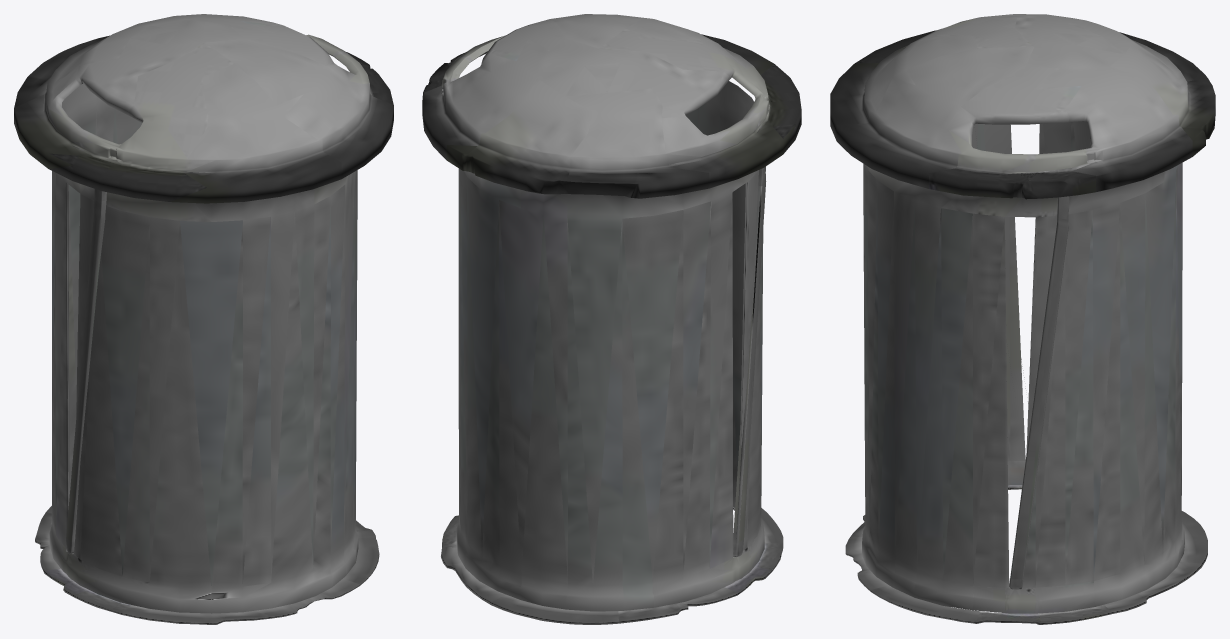
The model's file is subway-bin.glb.
3 views of the same model, side by side, from view 1: azimuth 30°, elevation 25°; view 2: azimuth 150°, elevation 25°; view 3: azimuth 270°, elevation 25° (orthographic).
Parts seen in each view (by area): view 1: tripo_node_10705424-c45c-416d-8e18-e7c3ea20aab4; view 2: tripo_node_10705424-c45c-416d-8e18-e7c3ea20aab4; view 3: tripo_node_10705424-c45c-416d-8e18-e7c3ea20aab4.
Part boxes in pixels (left/top/right/bottom): tripo_node_10705424-c45c-416d-8e18-e7c3ea20aab4: left=14, top=14, right=393, bottom=624; tripo_node_10705424-c45c-416d-8e18-e7c3ea20aab4: left=422, top=14, right=801, bottom=624; tripo_node_10705424-c45c-416d-8e18-e7c3ea20aab4: left=830, top=14, right=1215, bottom=624.
Bounding box in the file's own units: 0.5839 × 0.85 × 0.5839.
Materials: 1 (1 with a texture image).
